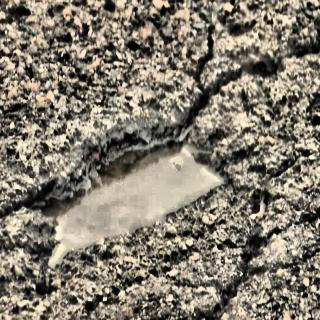pothole: (39, 104, 225, 284)
